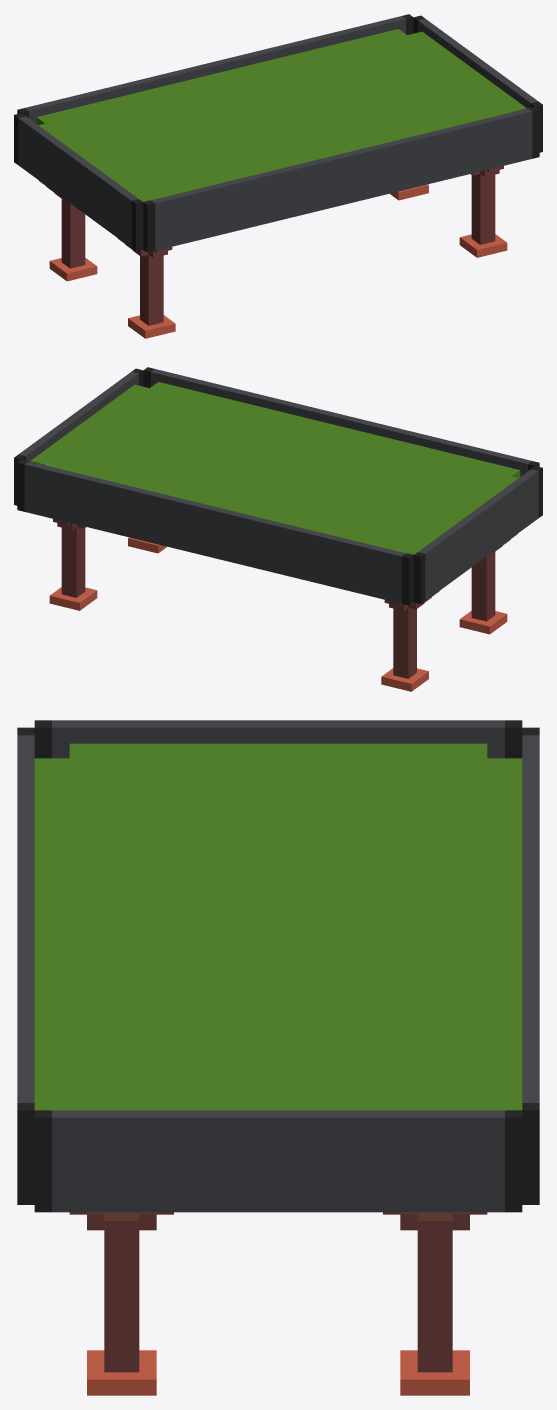
File: pool-table.obj
3 renders of one model, top to bottom at view 1: azimuth 30°, elevation 25°; view 2: azimuth 150°, elevation 25°; view 3: azimuth 270°, elevation 25°, orthographic. The views are drawn at different scales.
Bounding box in the file's own units: 5.4 × 1.9 × 3.
1 material, 1 textured.
